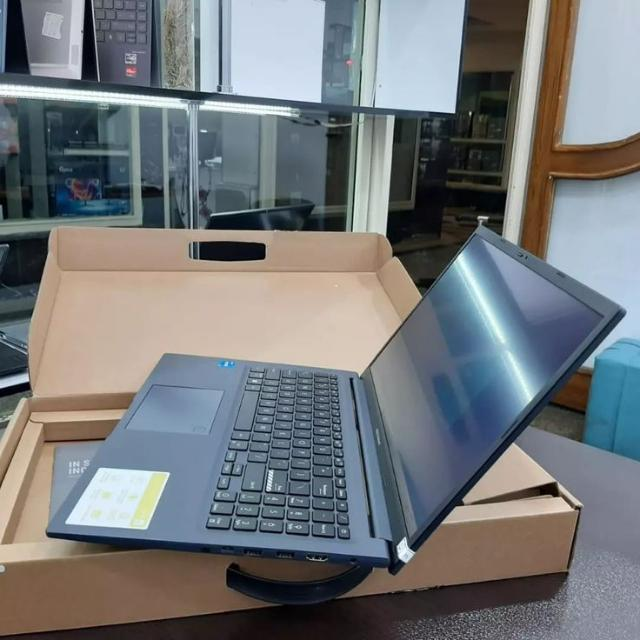laptop: (36, 206, 626, 566)
